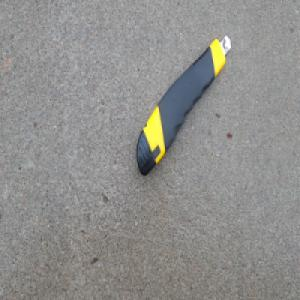Cutter: (136, 33, 231, 178)
